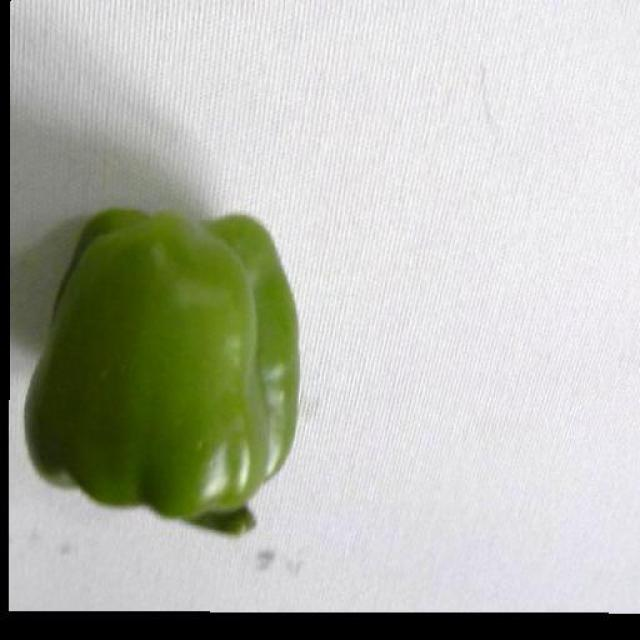Fresh_Capsicum: (46, 205, 312, 523)
